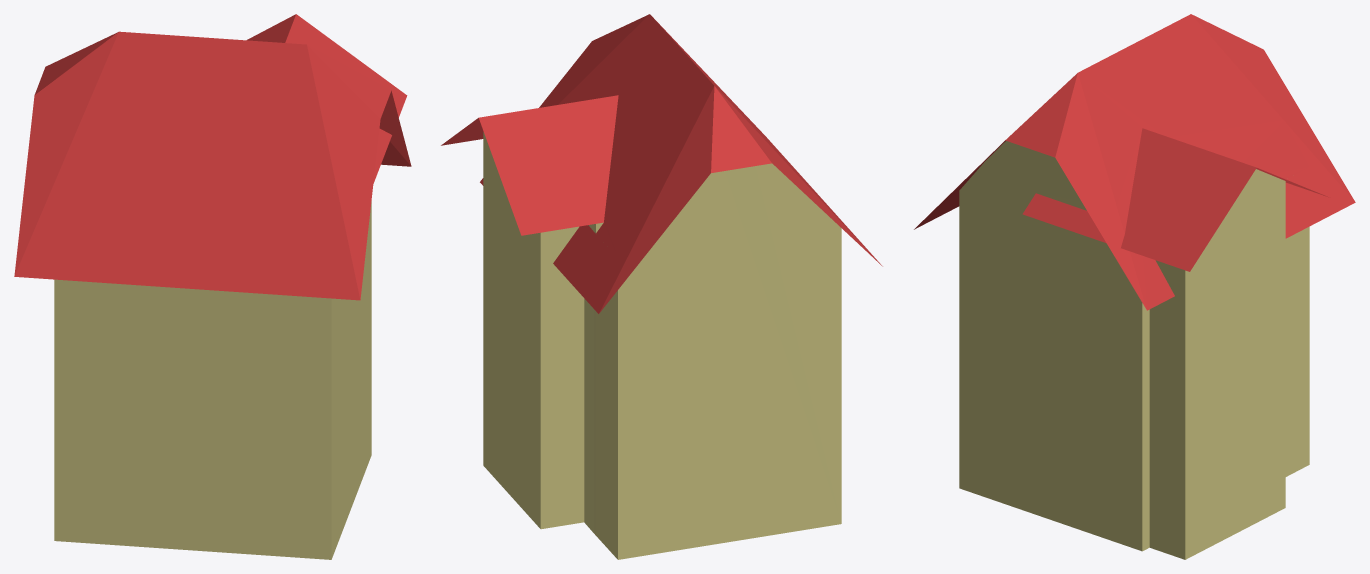
The picture shows the model from 3 angles, left to right: view 1: azimuth 30°, elevation 25°; view 2: azimuth 150°, elevation 25°; view 3: azimuth 270°, elevation 25°; orthographic projection. The views are drawn at different scales.
Visible parts, largest first — view 1: group_3, group_5, group_4, group_7; view 2: group_5, group_3, group_9, group_7, group_4, group_8; view 3: group_5, group_9, group_3, group_7, group_4, group_8.
Part boxes in pixels (x1,y1,x2,y2): group_3: (14, 31, 411, 300); group_5: (54, 201, 371, 559); group_4: (15, 56, 411, 299); group_7: (247, 14, 406, 183); group_5: (553, 163, 841, 559); group_3: (480, 14, 882, 313); group_9: (483, 132, 603, 529); group_7: (441, 95, 618, 235); group_4: (480, 32, 870, 313); group_8: (445, 114, 537, 233); group_5: (959, 141, 1309, 556); group_9: (1155, 169, 1285, 559); group_3: (914, 14, 1354, 310); group_7: (1022, 128, 1327, 271); group_4: (916, 35, 1355, 310); group_8: (1026, 168, 1325, 271).
Bounding box in the file's own units: 14.2 × 13.46 × 14.54.
